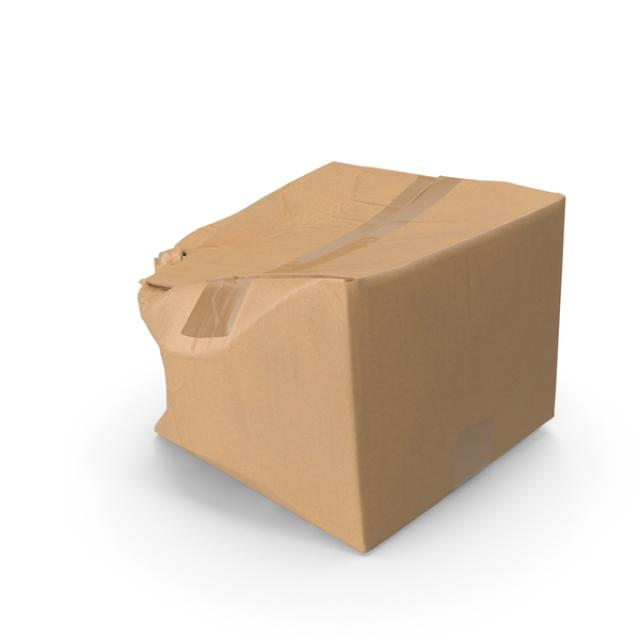Kardus kondisi rusak: (136, 160, 567, 554)
